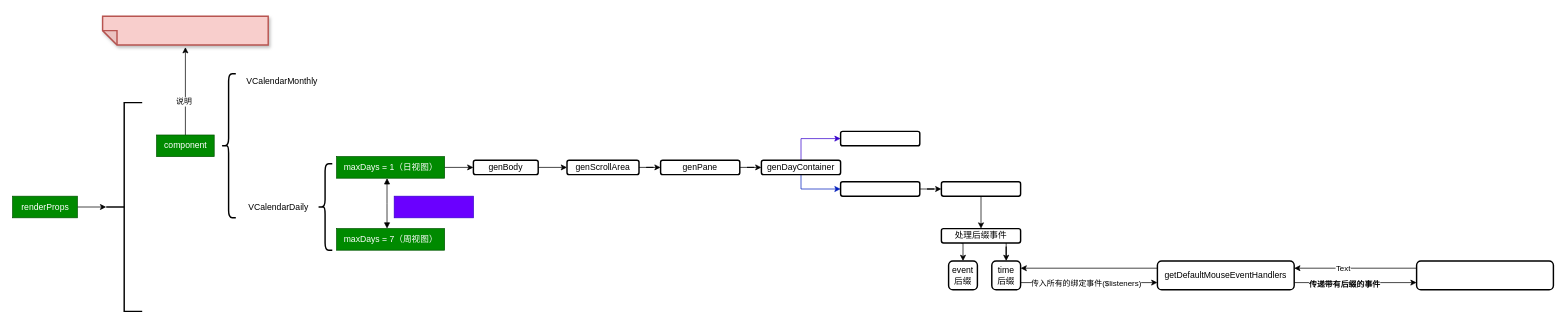
Some shapes in this 1567 by 324 pixel diagram are drawn without their labels. Here are the shapes that lost their labels. From the top down, the centre of each, then its label:
At pixel 186 31: "渲染日、周、月的日历视图组件".
At pixel 880 138: "genBodyIntervals".
At pixel 433 206: "可设置maxDays".
At pixel 880 189: "genDays".
At pixel 980 189: "genDay".
At pixel 1485 275: "getMouseEventHandlers".
